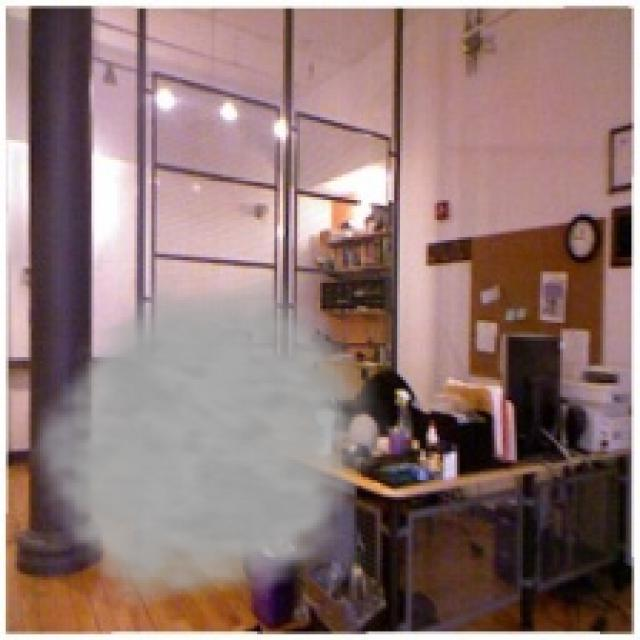smoke: (20, 274, 400, 620)
